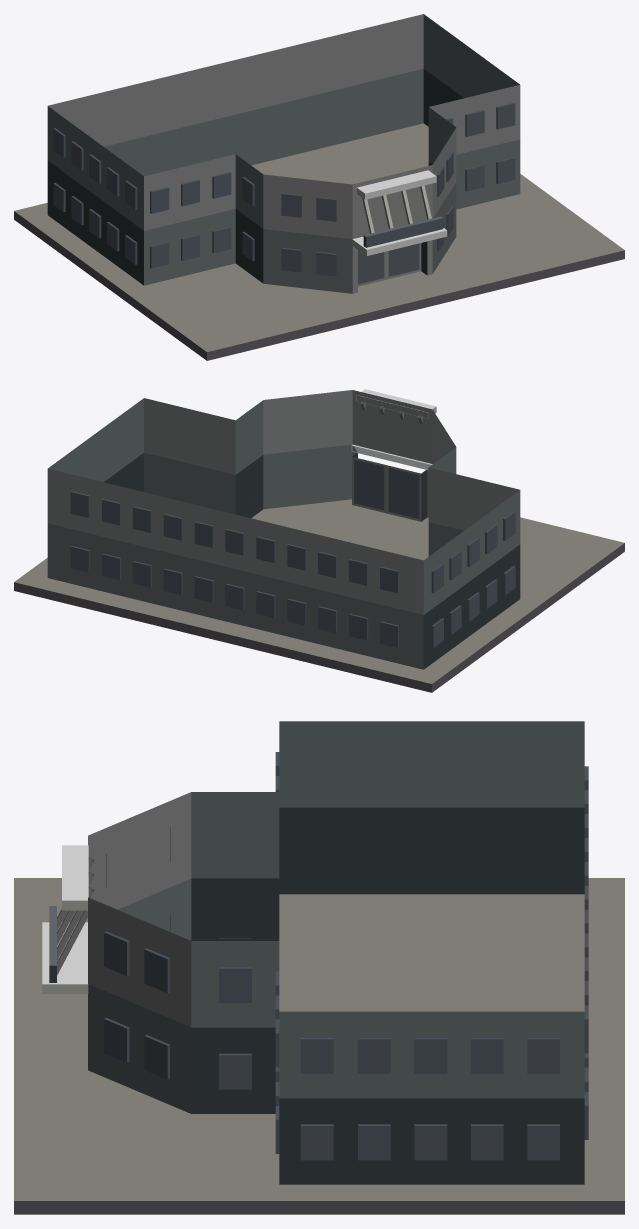
Rendered from TB_CITY_Skysc_O_Bottom_Gray.FBX.
The picture shows the model from 3 angles, top to bottom: view 1: azimuth 30°, elevation 25°; view 2: azimuth 150°, elevation 25°; view 3: azimuth 270°, elevation 25°; orthographic projection. The views are drawn at different scales.
Visible parts, largest first — view 1: TB_CITY_Skysc_O_Bottom_Gray; view 2: TB_CITY_Skysc_O_Bottom_Gray; view 3: TB_CITY_Skysc_O_Bottom_Gray.
Part boxes in pixels (x1,y1,x2,y2): TB_CITY_Skysc_O_Bottom_Gray: [14, 14, 624, 360]; TB_CITY_Skysc_O_Bottom_Gray: [14, 389, 624, 692]; TB_CITY_Skysc_O_Bottom_Gray: [14, 721, 624, 1214].
Size of the model in its own units: 40 by 10.8 by 32.
